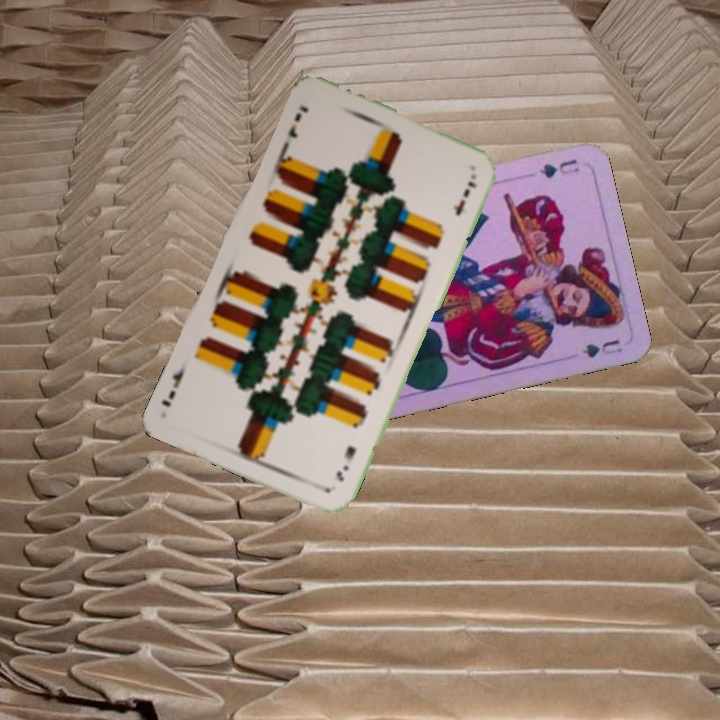E7: (332, 442, 359, 484), (284, 101, 312, 141)
GU: (535, 155, 582, 181)
